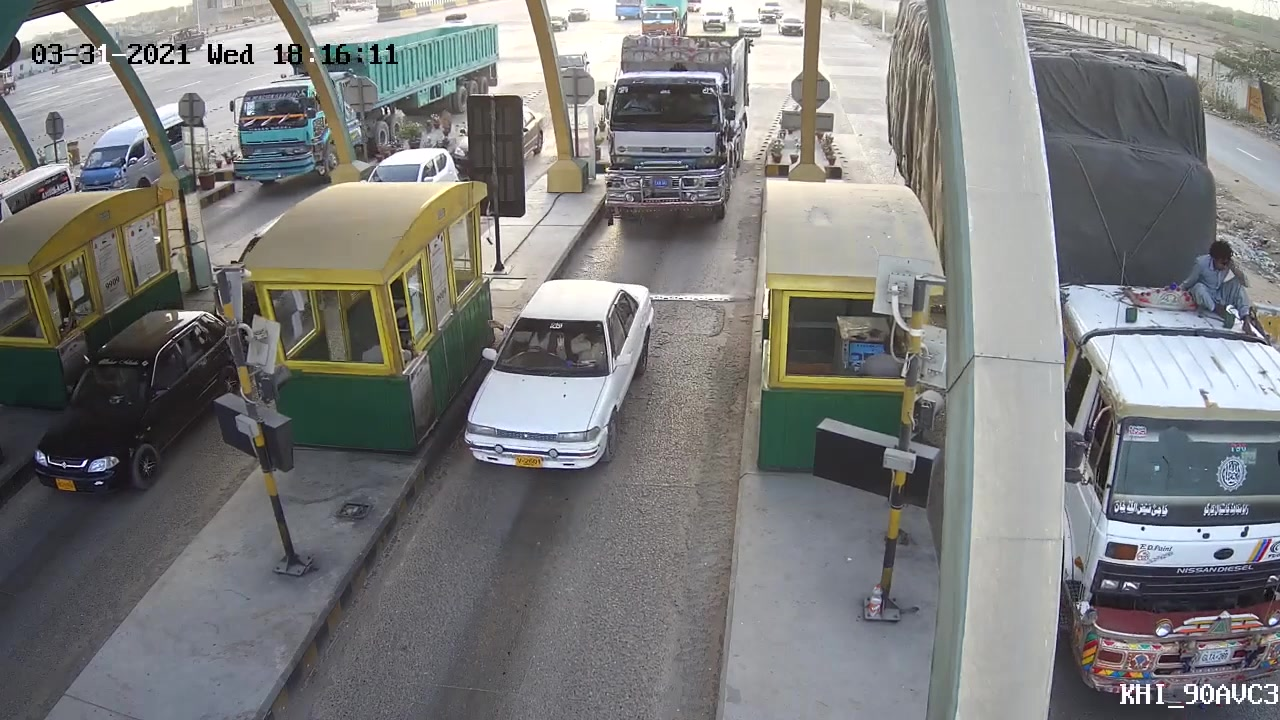F1: (465, 270, 664, 477)
F5: (588, 50, 752, 225)
